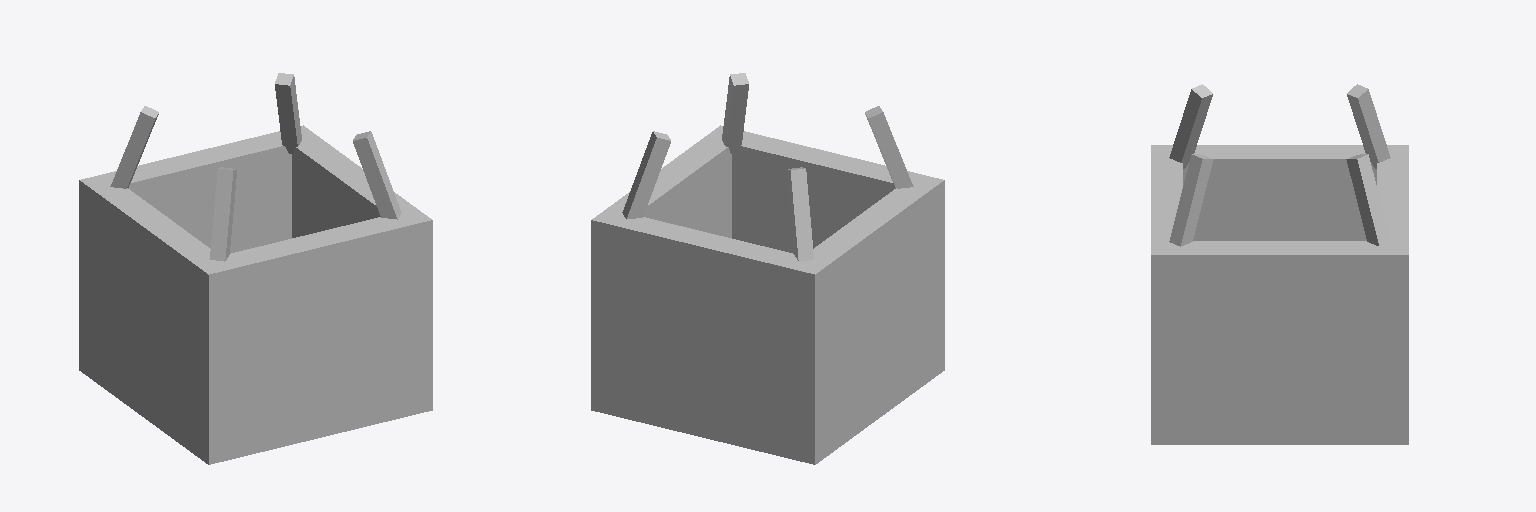
File: demonic_altar_v2.obj
3 renders of one model, left to right at view 1: azimuth 30°, elevation 25°; view 2: azimuth 150°, elevation 25°; view 3: azimuth 270°, elevation 25°, orthographic.
Visible parts, largest first — view 1: Side, Holder, Bottom; view 2: Side, Holder, Bottom; view 3: Side, Holder, Bottom.
Boxes of the visible parts, box(x1,y1,x2,y2) form: Side: box(79, 125, 432, 449); Holder: box(110, 73, 401, 261); Bottom: box(79, 356, 432, 464); Side: box(591, 125, 944, 449); Holder: box(622, 73, 913, 261); Bottom: box(591, 356, 944, 464); Side: box(1151, 145, 1408, 429); Holder: box(1169, 84, 1390, 246); Bottom: box(1151, 430, 1408, 444).
Bounding box in the file's own units: 1 × 1.15 × 1.